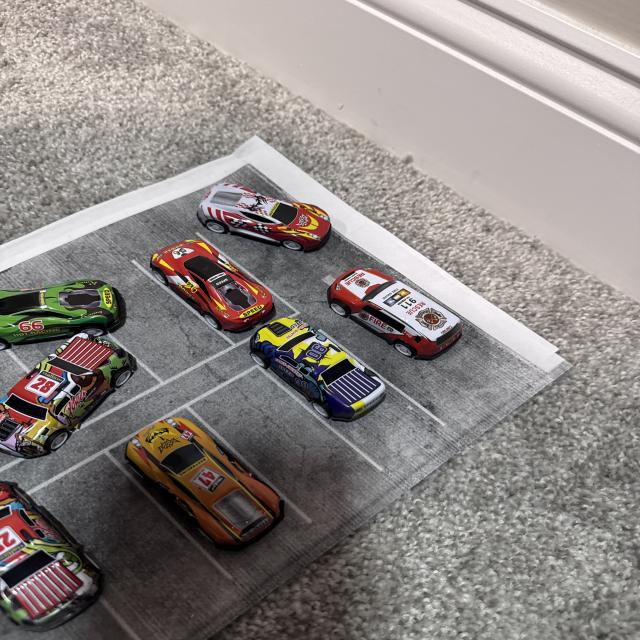Car: (0, 442, 168, 640), (129, 411, 267, 560), (0, 346, 128, 474), (249, 319, 379, 422), (326, 268, 456, 358), (149, 244, 275, 332), (190, 184, 330, 254), (0, 278, 128, 349)
